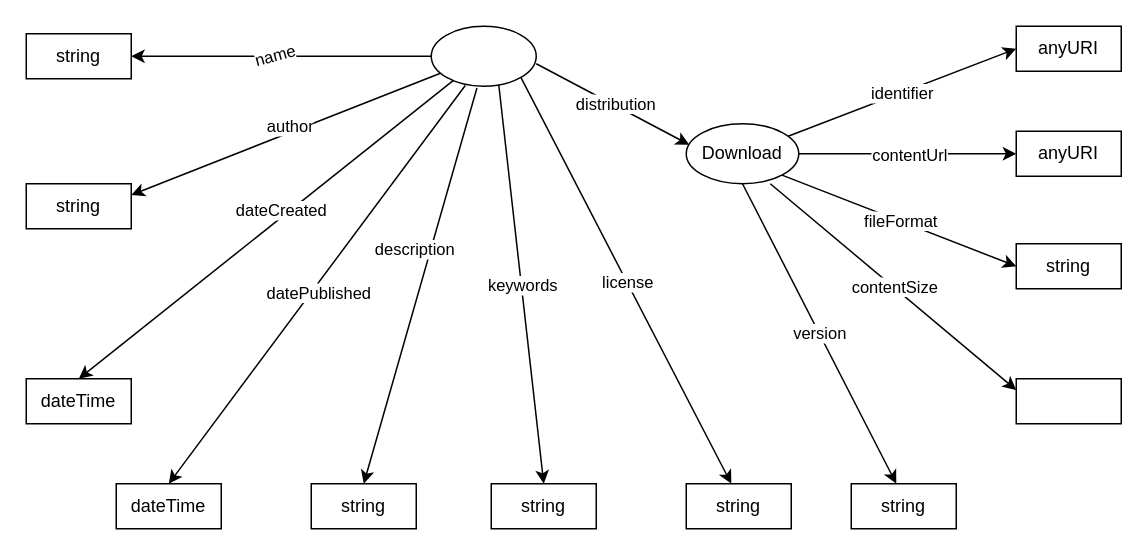
This 1148x555 diagram has some shape labels left out. Each missing label, with the centre of its shape:
Dataset: [483,55]
long: [1068,400]
